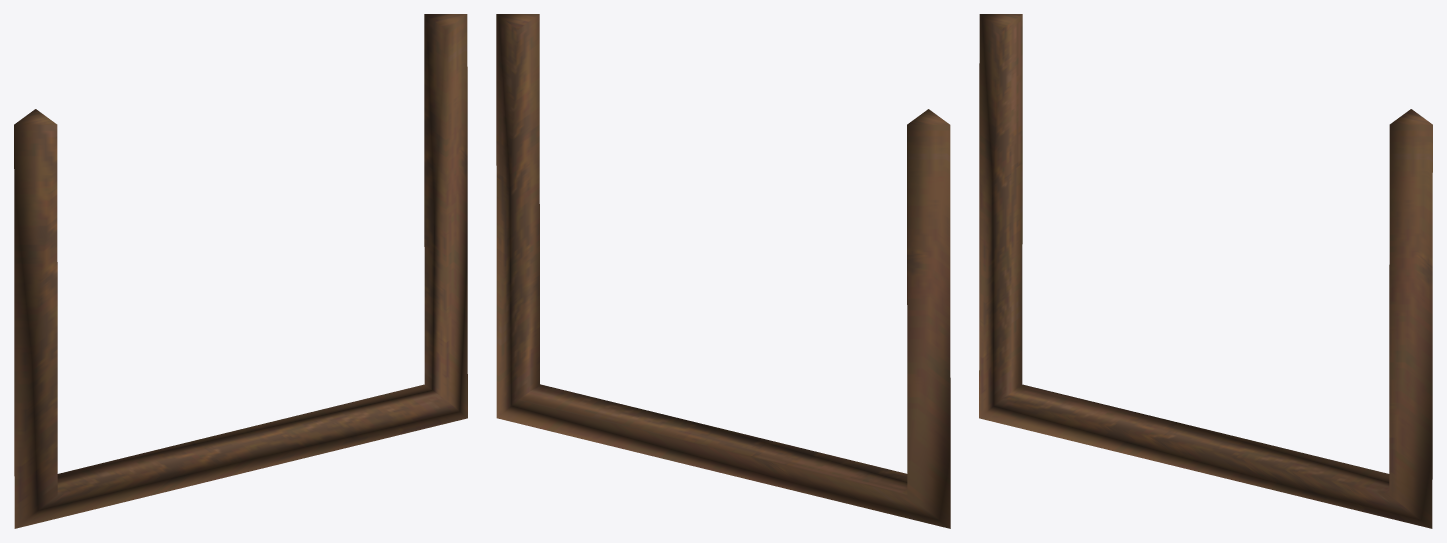
The model's file is INST_SWORDLIGHT_BRKT14M.fbx.
The picture shows the model from 3 angles, left to right: view 1: azimuth 30°, elevation 25°; view 2: azimuth 150°, elevation 25°; view 3: azimuth 330°, elevation 25°; orthographic projection.
Parts seen in each view (by area): view 1: INST_SWORDLIGHT_BRKT14M; view 2: INST_SWORDLIGHT_BRKT14M; view 3: INST_SWORDLIGHT_BRKT14M.
Boxes of the visible parts, left/top/right/bottom form: INST_SWORDLIGHT_BRKT14M: left=14, top=14, right=467, bottom=528; INST_SWORDLIGHT_BRKT14M: left=496, top=14, right=950, bottom=528; INST_SWORDLIGHT_BRKT14M: left=979, top=14, right=1432, bottom=528.
Size of the model in its own units: 18154 by 15463 by 1529.
1 material, 1 textured.
